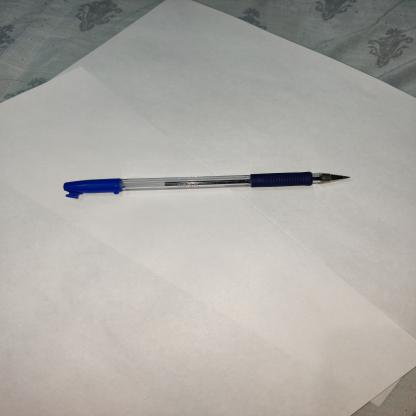Pen: (61, 165, 350, 210)
